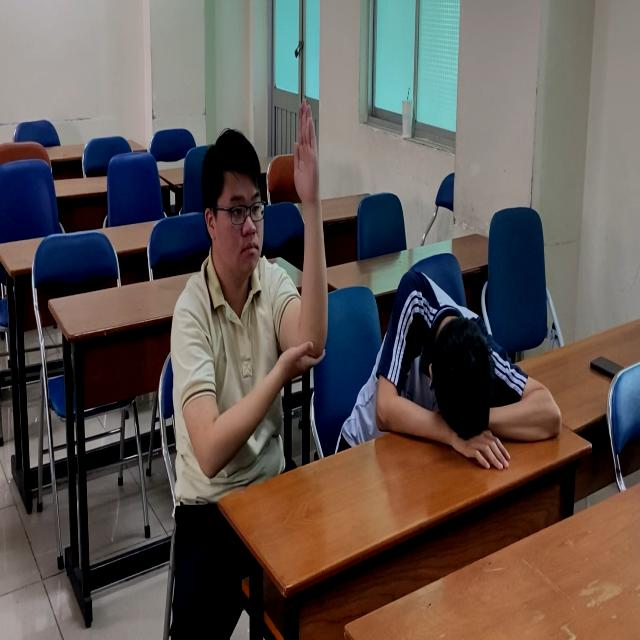raise_hand: (168, 97, 334, 514)
sleep: (334, 267, 564, 470)
